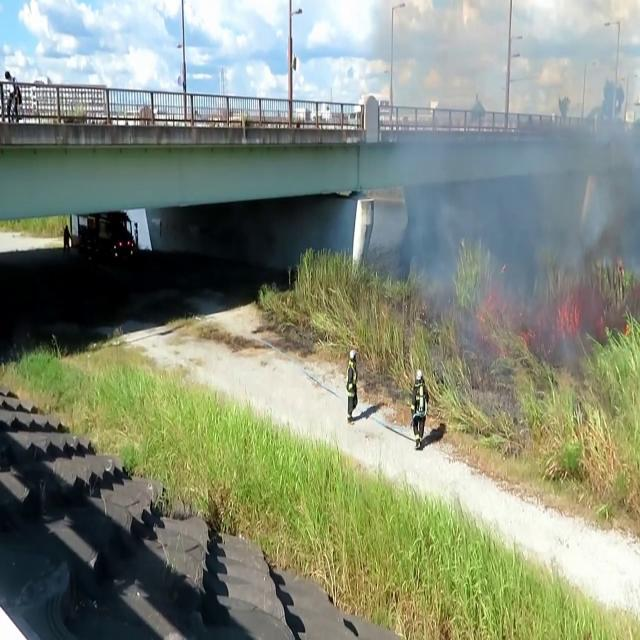Smoke: (481, 78, 637, 383), (388, 45, 484, 318)
